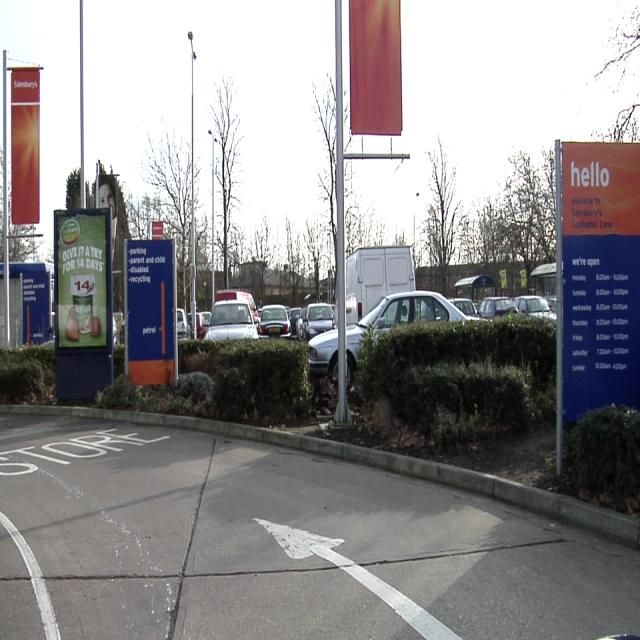Car: (349, 292, 477, 336), (1, 345, 53, 402), (205, 291, 265, 340), (307, 304, 337, 385), (514, 295, 555, 319), (259, 305, 290, 336), (479, 297, 518, 318), (197, 312, 208, 339), (599, 635, 639, 639)
Road: (0, 418, 640, 638), (0, 416, 638, 629)
Tree: (419, 140, 554, 293), (134, 116, 195, 308), (228, 201, 330, 303), (598, 3, 639, 141), (65, 167, 79, 207)
Truck_Bus: (346, 247, 415, 324)
